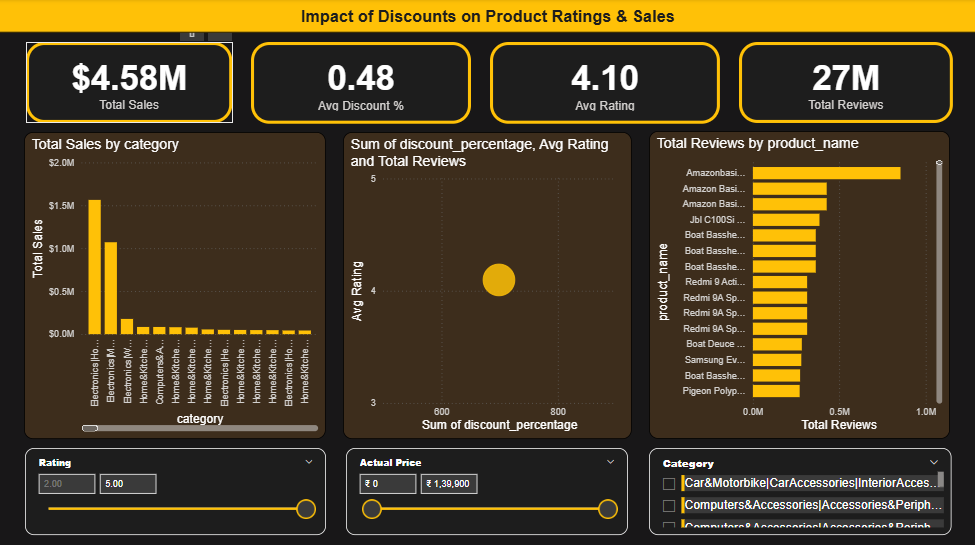

What the dashboard file says about the page in this screenshot:
{"tool":"powerbi","page":{"name":"Page 1","canvas":[1280,720],"ordinal":0},"visuals":[{"type":"card","fields":{"Values":["Amazon Sales.Total Sales"]},"box":[35.7,56.4,270,106],"z":0},{"type":"card","fields":{"Values":["Amazon Sales.Avg Discount %"]},"box":[330.2,56.3,288,106.6],"z":1000},{"type":"card","fields":{"Values":["Amazon Dataset.Avg Rating"]},"box":[642.7,56.3,301,106.6],"z":2000},{"type":"card","fields":{"Values":["Amazon Dataset.Total Reviews"]},"box":[968.2,56.4,280,106.2],"z":3000},{"type":"clusteredColumnChart","fields":{"Category":["Amazon Sales.category"],"Y":["Amazon Sales.Total Sales"]},"box":[32.9,173.6,395,401.7],"z":4000},{"type":"scatterChart","fields":{"X":["Sum(Amazon Sales.discount_percentage)"],"Y":["Amazon Dataset.Avg Rating"],"Size":["Amazon Dataset.Total Reviews"]},"box":[450.4,173.6,378.3,401.7],"z":5000},{"type":"barChart","fields":{"Category":["Amazon Sales.product_name"],"Y":["Amazon Dataset.Total Reviews"]},"box":[851.4,172.9,394.3,402.9],"z":6000},{"type":"slicer","fields":{"Values":["Amazon Sales.category"]},"box":[851.4,587.6,395.7,114.3],"z":7000},{"type":"slicer","fields":{"Values":["Amazon Sales.rating"]},"box":[34.3,587.6,394.3,114.3],"z":8000},{"type":"slicer","fields":{"Values":["Amazon Sales.actual_price"]},"box":[454.3,587.1,368.6,114.3],"z":9000},{"type":"textbox","box":[0,0,1280,44.3],"z":10000}]}

Visuals, with their boxes in screenshot pixels (x1, y1, x2, y2), scaled from the page's 1280x720 canvas onto the 975x545 screenshot:
card - Amazon Sales.Total Sales: region(27, 43, 233, 123)
card - Amazon Sales.Avg Discount %: region(252, 43, 471, 123)
card - Amazon Dataset.Avg Rating: region(490, 43, 719, 123)
card - Amazon Dataset.Total Reviews: region(737, 43, 951, 123)
clusteredColumnChart - Amazon Sales.category x Amazon Sales.Total Sales: region(25, 131, 326, 435)
scatterChart - Sum(Amazon Sales.discount_percentage) x Amazon Dataset.Avg Rating: region(343, 131, 631, 435)
barChart - Amazon Sales.product_name x Amazon Dataset.Total Reviews: region(649, 131, 949, 436)
slicer - Amazon Sales.category: region(649, 445, 950, 531)
slicer - Amazon Sales.rating: region(26, 445, 326, 531)
slicer - Amazon Sales.actual_price: region(346, 444, 627, 531)
textbox: region(0, 0, 974, 34)
